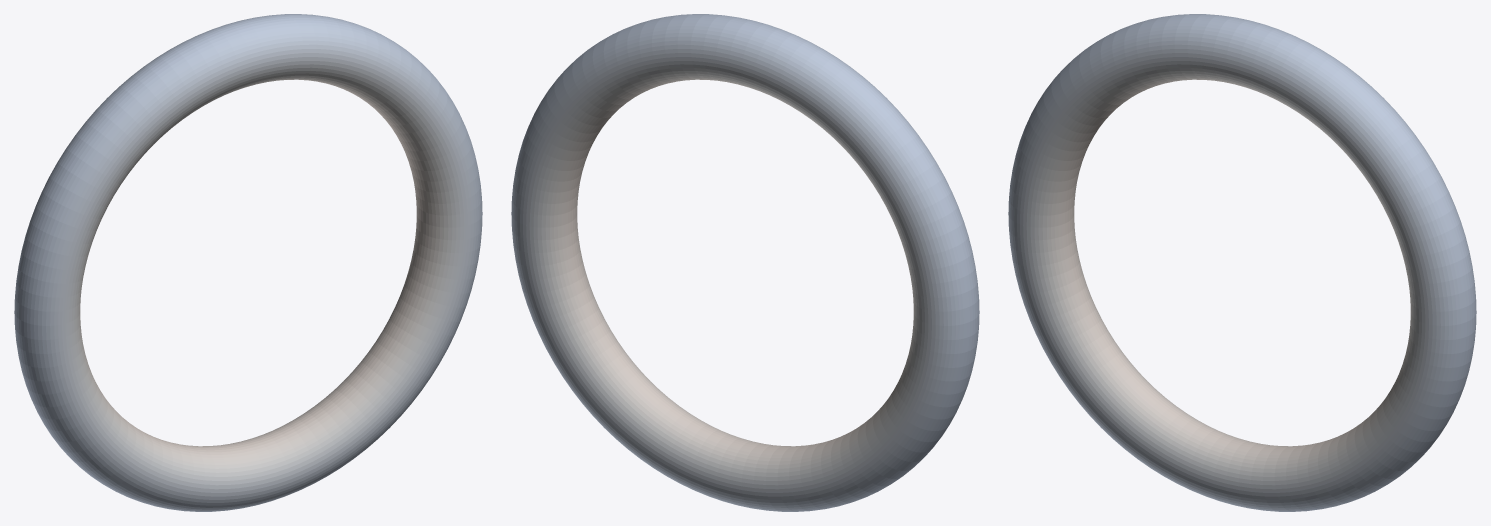
The picture shows the model from 3 angles, left to right: view 1: azimuth 30°, elevation 25°; view 2: azimuth 150°, elevation 25°; view 3: azimuth 330°, elevation 25°; orthographic projection.
Visible parts, largest first — view 1: world; view 2: world; view 3: world.
Boxes of the visible parts, left/top/right/bottom form: world: left=14, top=14, right=482, bottom=511; world: left=511, top=14, right=979, bottom=511; world: left=1008, top=14, right=1476, bottom=511.
Size of the model in its own units: 18.27 by 18.27 by 2.26.
